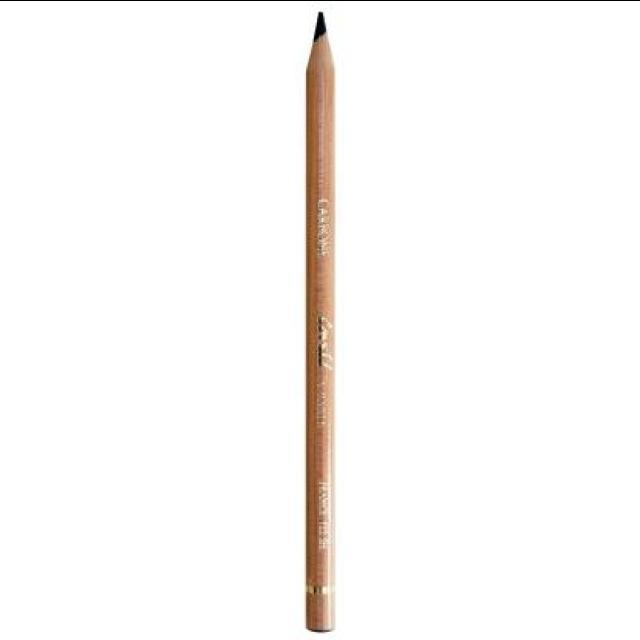pencil: (290, 3, 344, 92)
